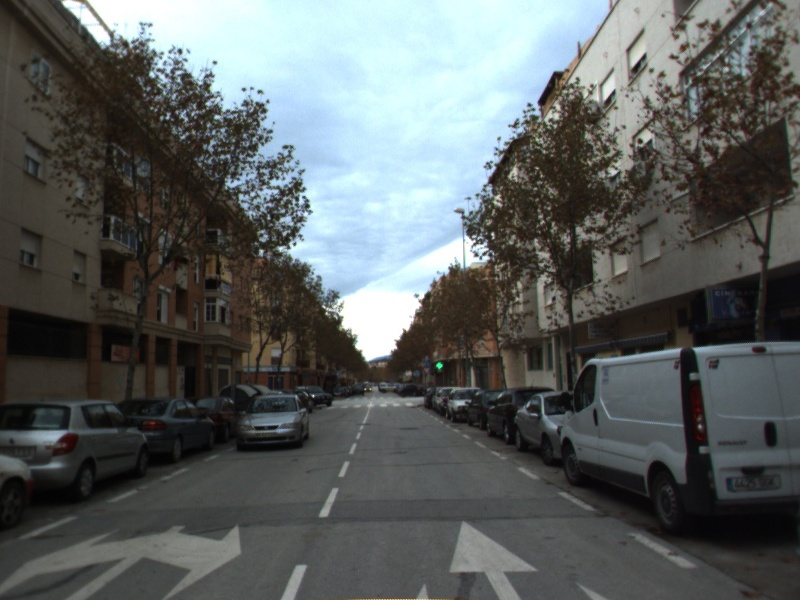STRAIGHT: (446, 516, 542, 600)
